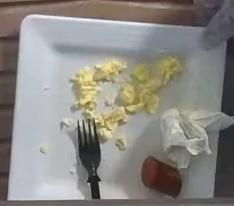hot_dog: (142, 157, 182, 198)
scrambled_eggs: (69, 54, 180, 140)
